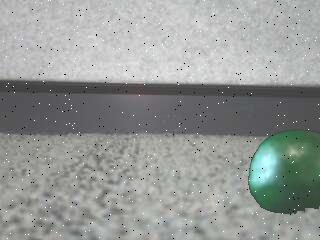Lime: (248, 131, 320, 215)
